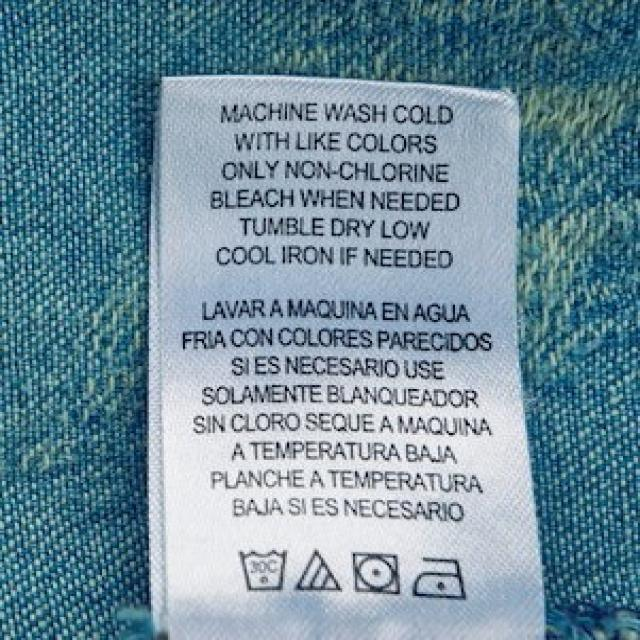30C: (238, 539, 292, 594)
iron_low: (409, 551, 468, 603)
non_chlorine_bleach: (297, 548, 340, 594)
tumble_dry_low: (349, 547, 410, 600)
